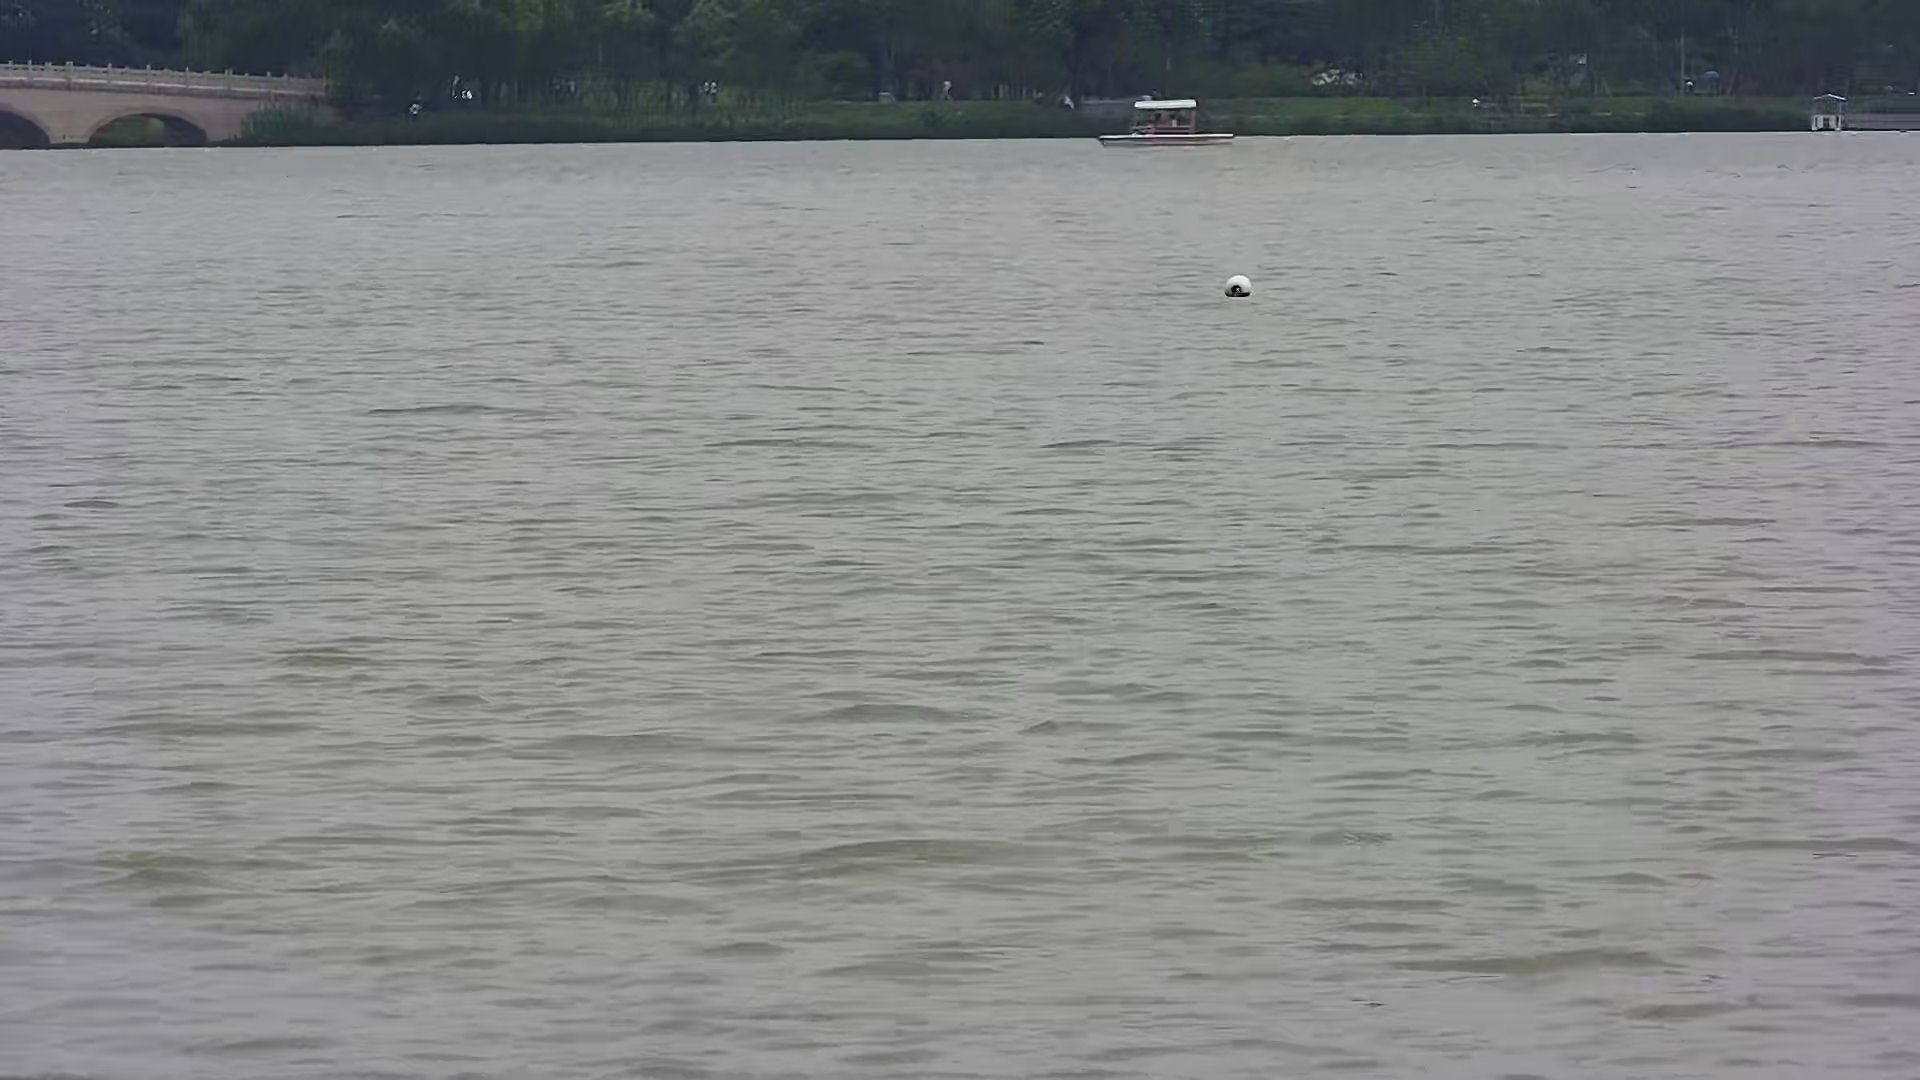boat: (1089, 98, 1237, 152)
bridge: (1, 53, 332, 154)
rubbish: (1222, 272, 1253, 295)
